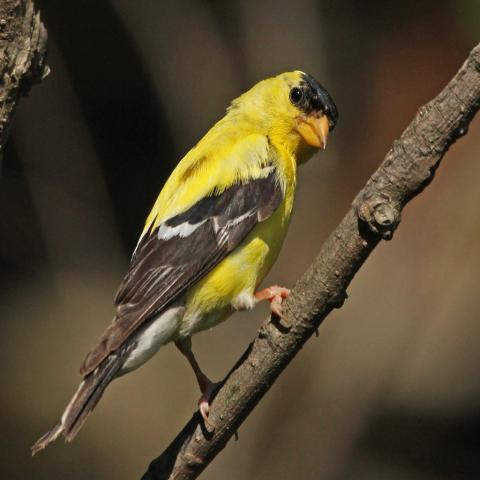bird: (29, 67, 340, 457)
